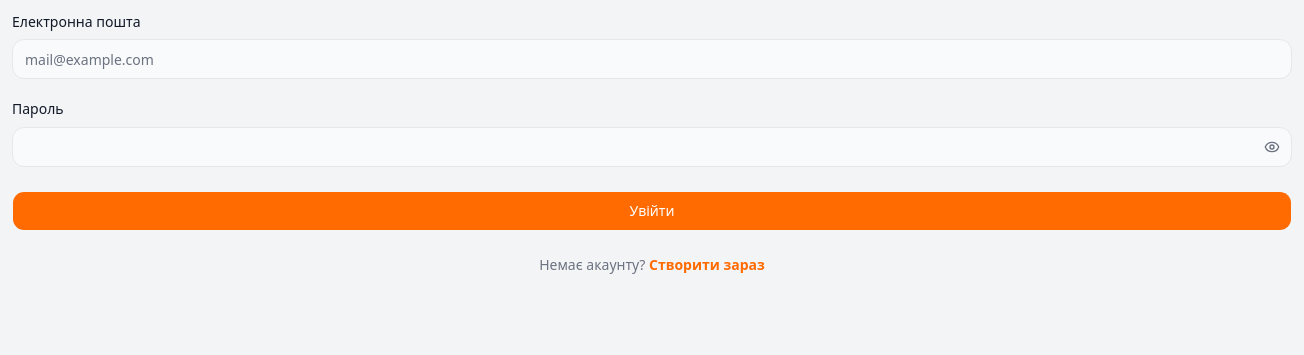
Test: LoginForm › explains a temporary lockout after too many attempts
The image size is (1304, 355).
Type "customer@example.com" into the field labelled "Електронна пошта" at (652,59), box [12,39,1292,79]
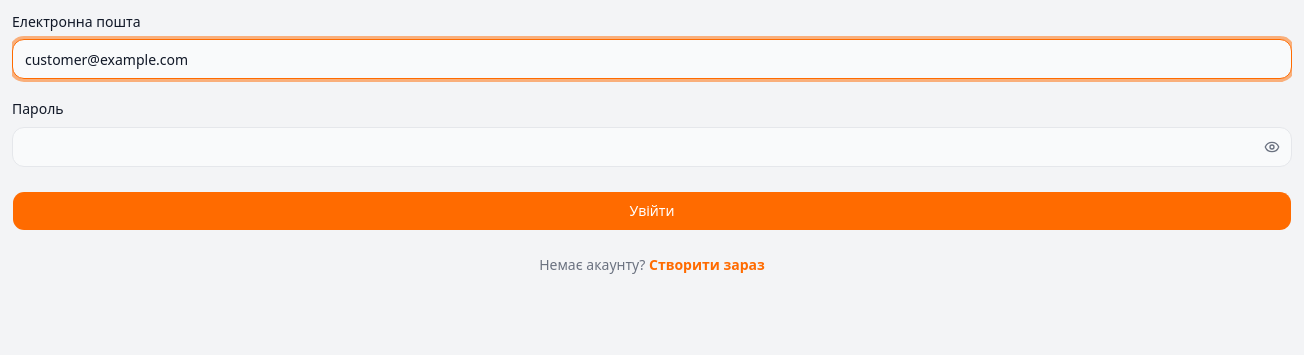
Type "wrong-password1" into the password field labelled "Пароль" at (652,146), box [12,126,1292,166]
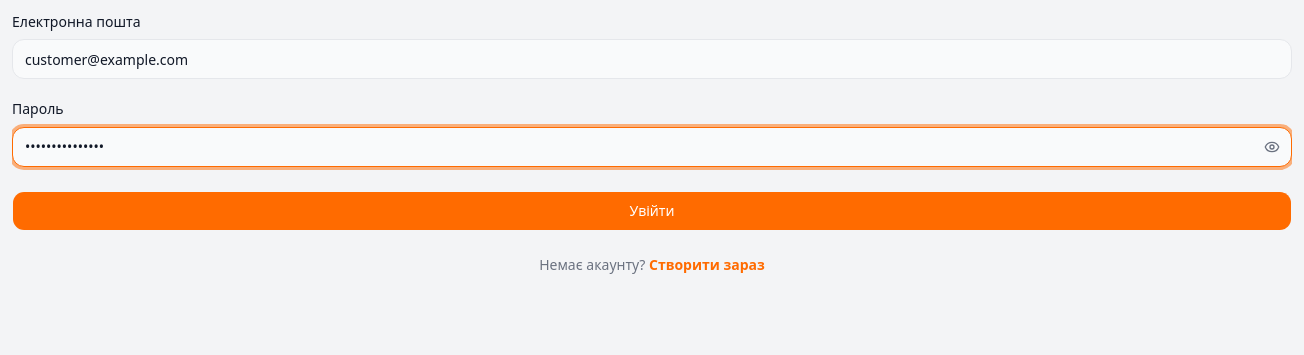
Click the button "Увійти" at (652,210), box [12,190,1292,230]
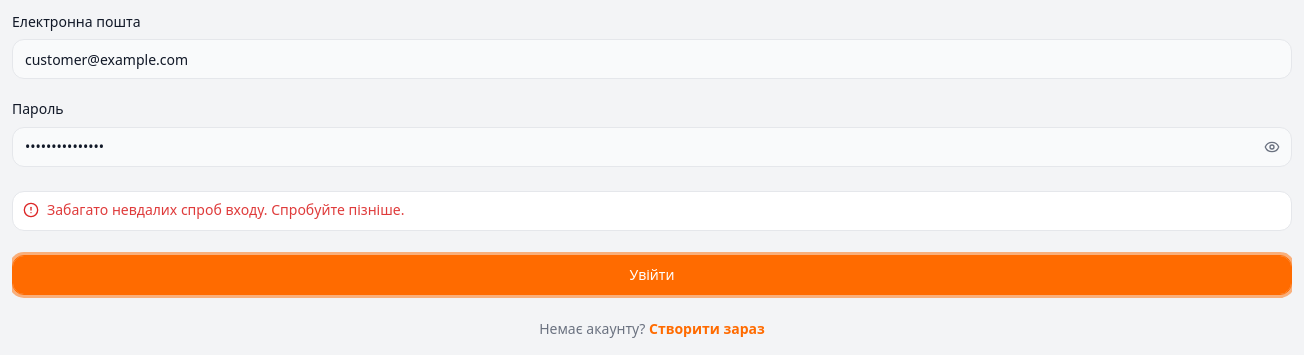
expect the text "Забагато невдалих спроб входу. Спробуйте пізніше." is shown: met, box [47,200,404,218]
